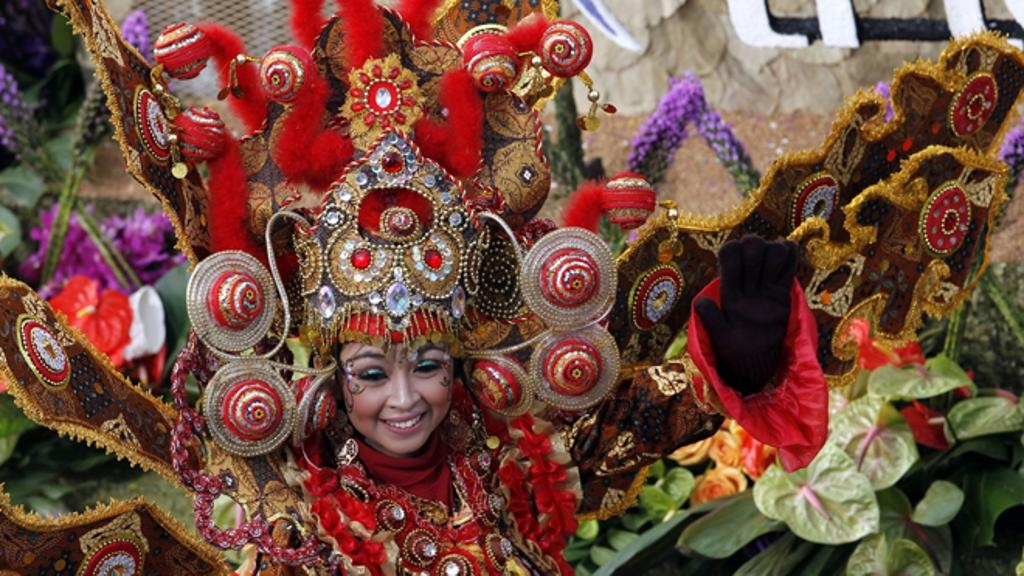human_face: (342, 324, 456, 454)
